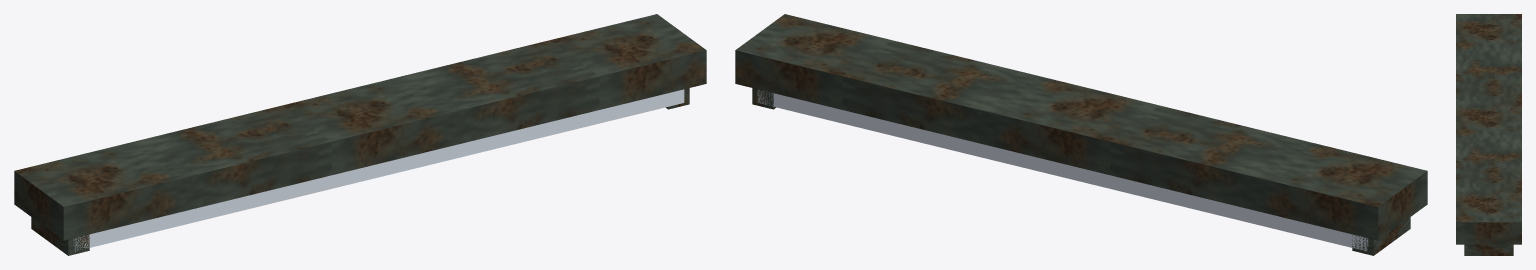
File: SM_Light_Fluoro.fbx
The picture shows the model from 3 angles, left to right: view 1: azimuth 30°, elevation 25°; view 2: azimuth 150°, elevation 25°; view 3: azimuth 270°, elevation 25°; orthographic projection. The views are drawn at different scales.
Visible parts, largest first — view 1: SM_Light_Fluoro; view 2: SM_Light_Fluoro; view 3: SM_Light_Fluoro.
Part boxes in pixels (left/top/right/bottom): SM_Light_Fluoro: left=14, top=14, right=706, bottom=255; SM_Light_Fluoro: left=735, top=14, right=1427, bottom=255; SM_Light_Fluoro: left=1456, top=14, right=1521, bottom=255.
Size of the model in its own units: 1.2 by 0.1 by 0.16.
